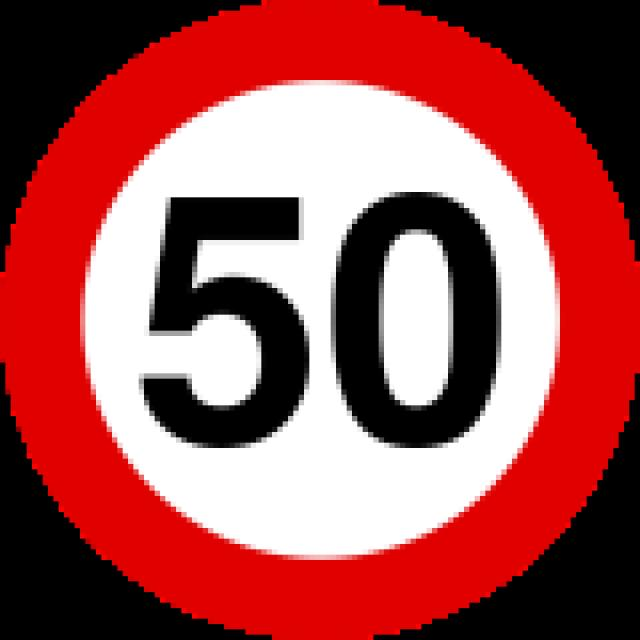Speed Limit -50-: (132, 176, 510, 456)
